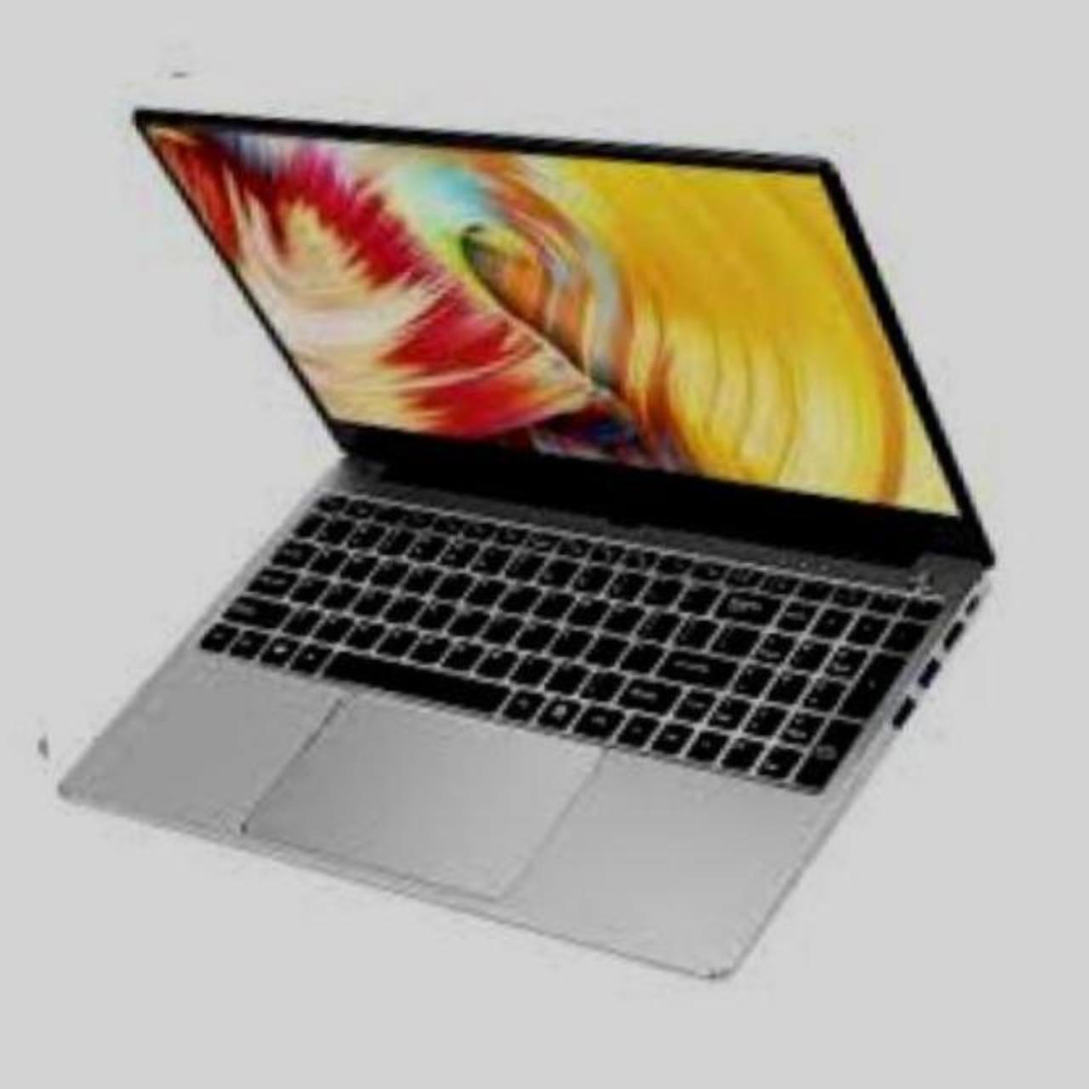laptop: (14, 29, 1069, 1067)
